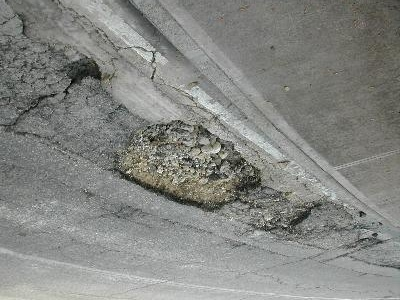pothole: (109, 117, 266, 217), (247, 198, 325, 235), (61, 55, 104, 86), (344, 227, 383, 251), (378, 257, 400, 273)
